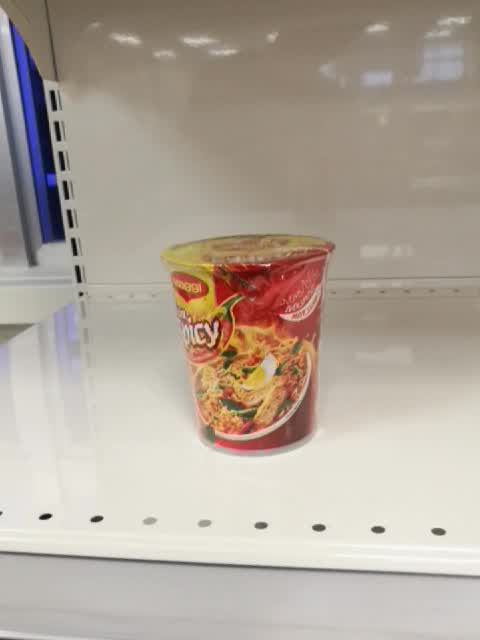maggi: (160, 232, 337, 456)
